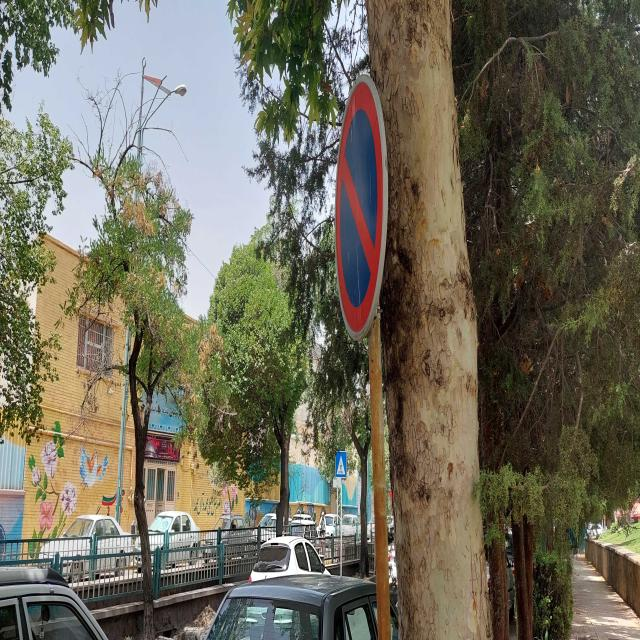forb_stopping: (335, 72, 390, 345)
